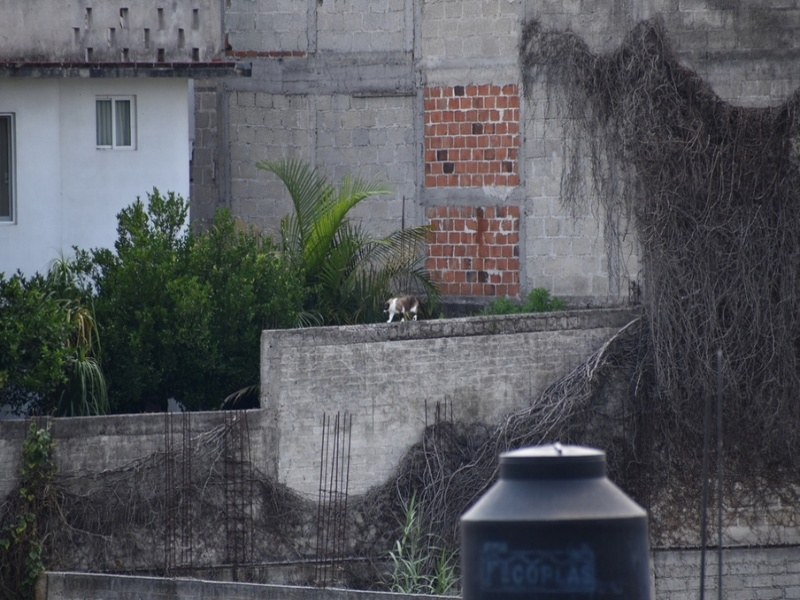cat: (379, 294, 429, 325)
